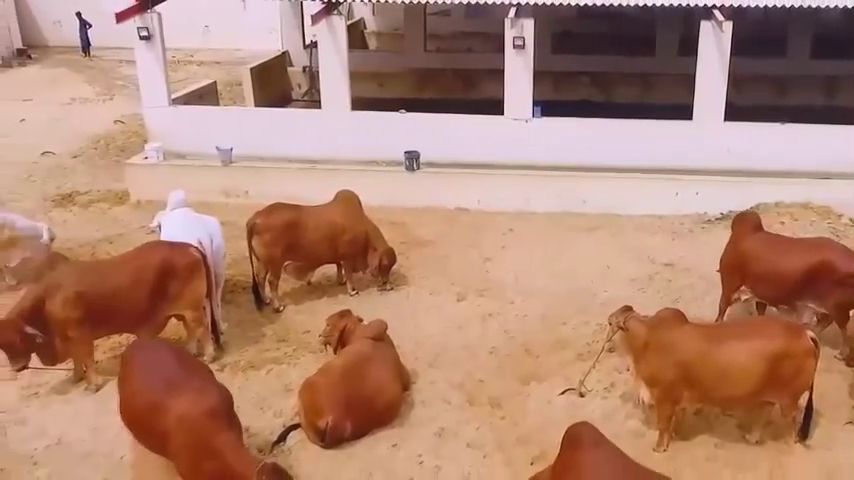bo: (595, 286, 831, 455), (7, 234, 224, 389), (98, 318, 292, 475), (702, 196, 854, 353), (247, 186, 404, 316), (294, 298, 424, 453), (524, 405, 691, 480), (154, 187, 233, 334)
